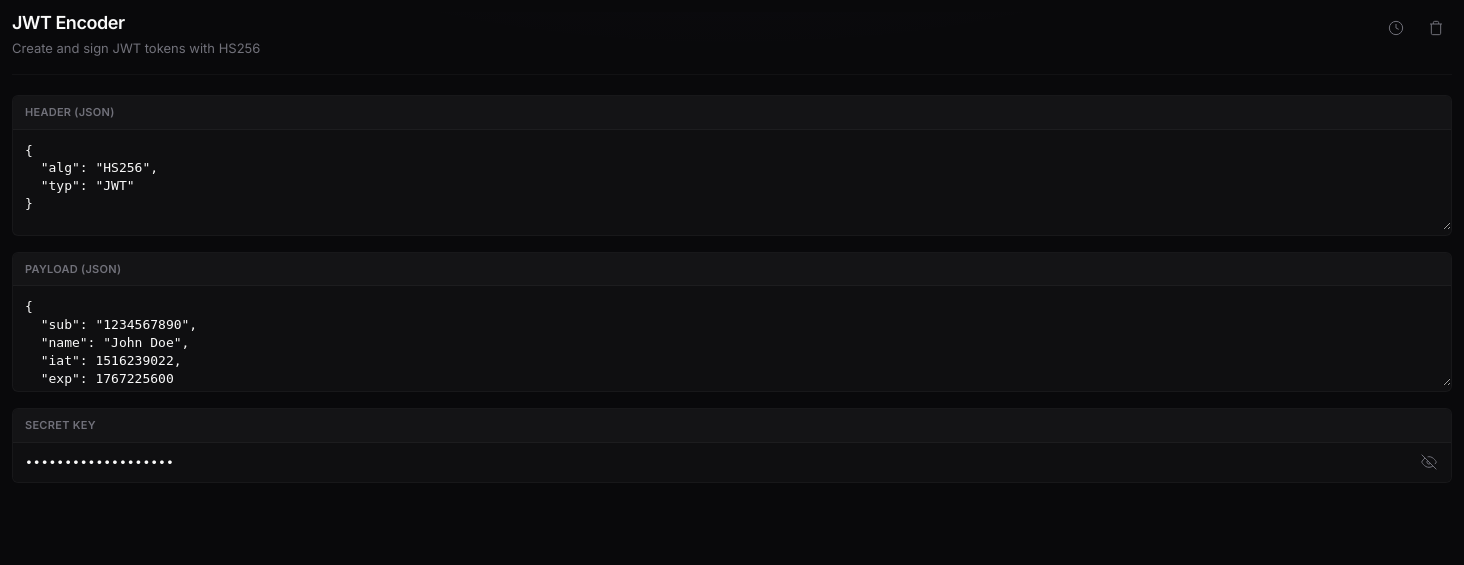
Test: JwtEncoderTool › should show error for invalid payload JSON
Replace the text in the text box with class "input-textarea" below "Payload (JSON)" with "invalid json". click: (732, 336)
box: [13, 286, 1451, 386]
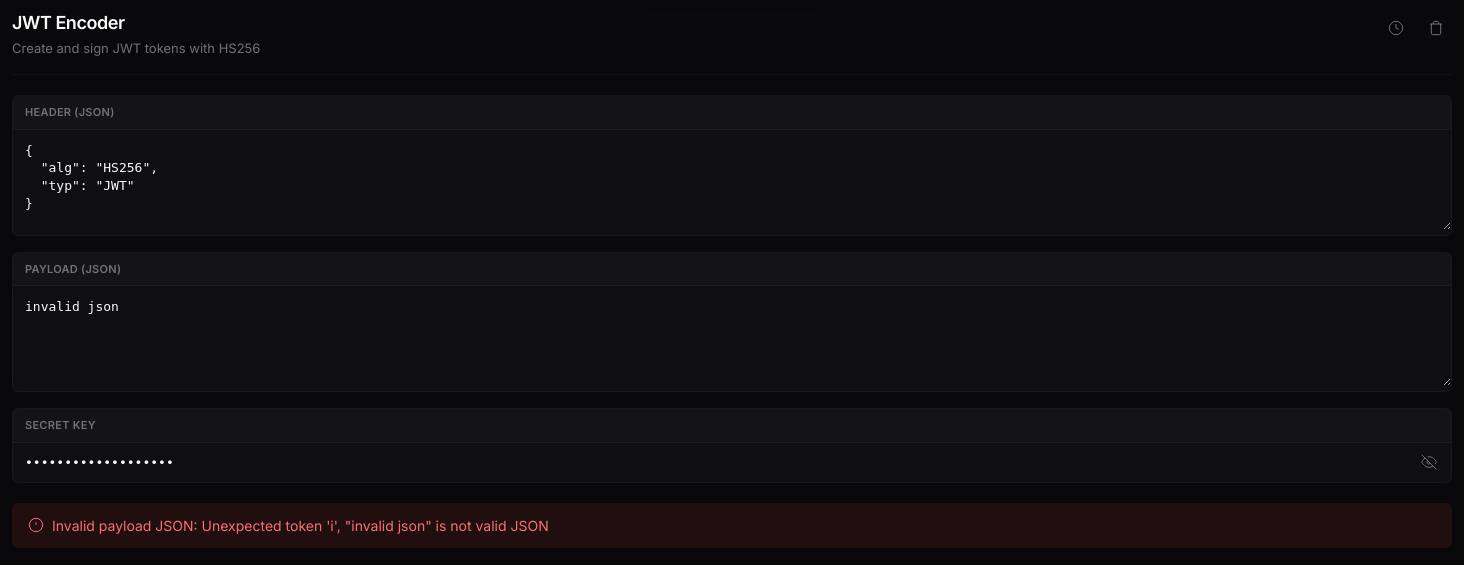
Expected: the text "Invalid payload JSON" is shown, [52, 516, 549, 534]
